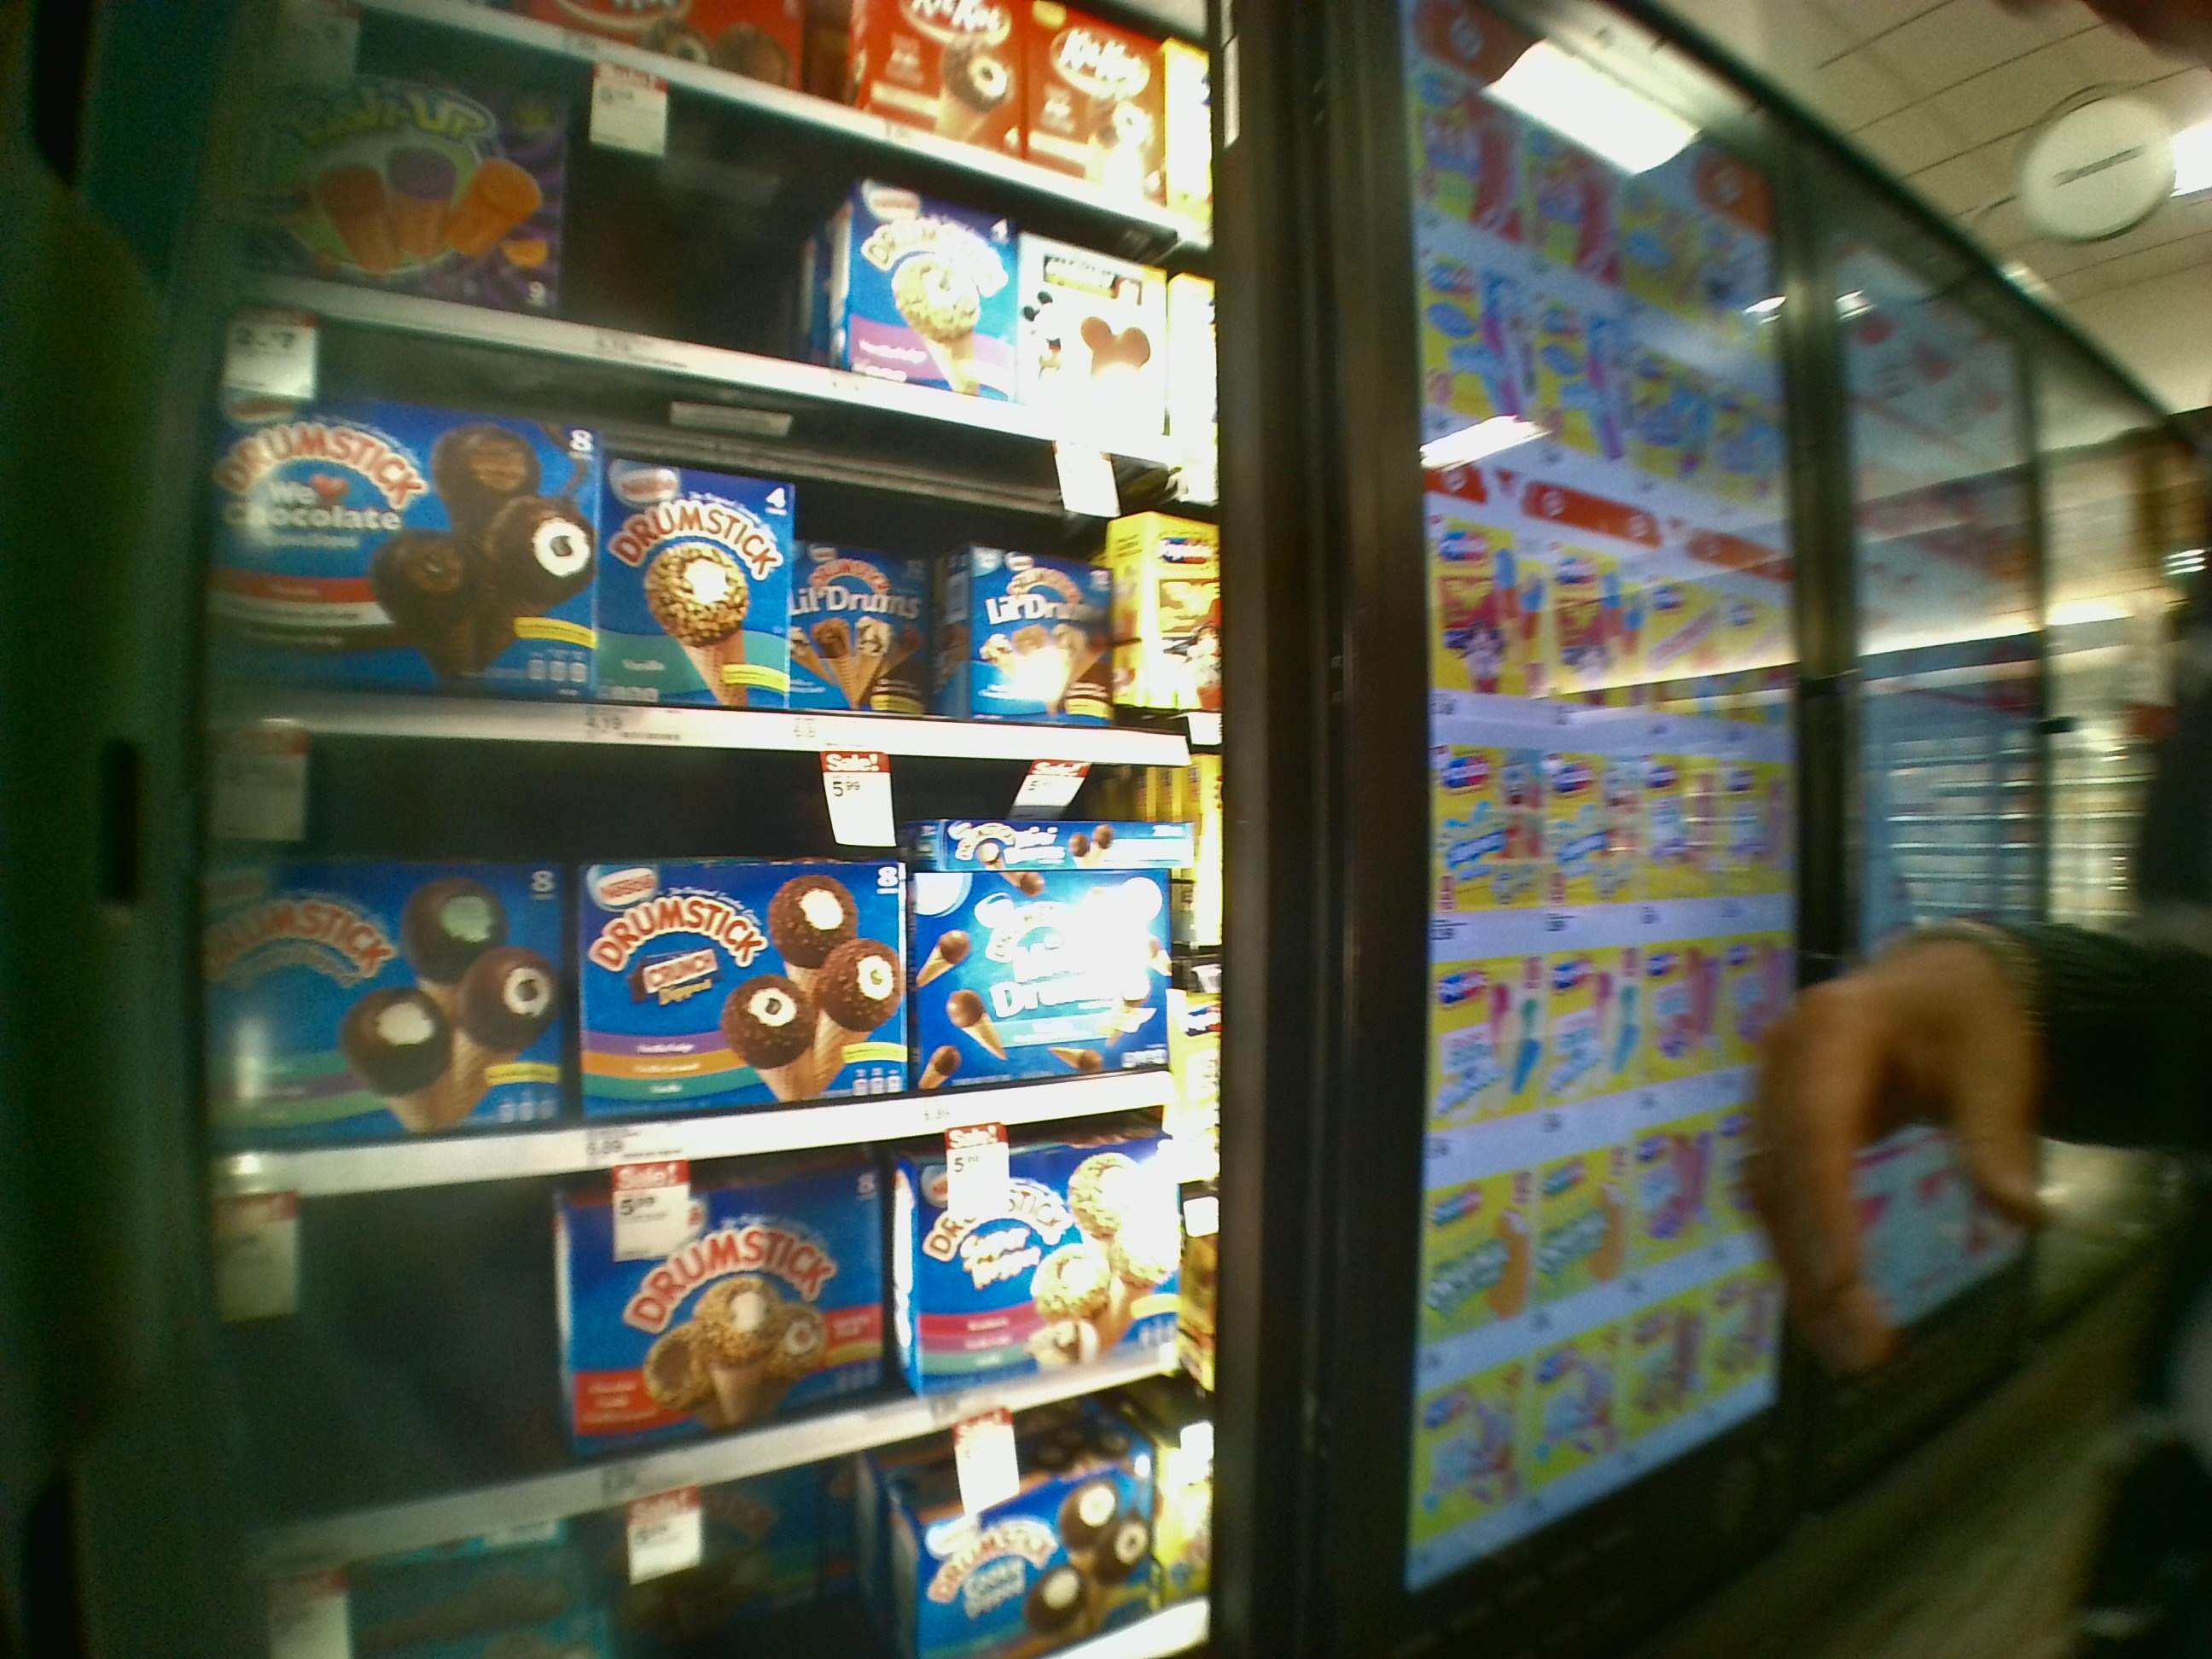shelf: (212, 727, 1233, 1178), (211, 319, 1230, 763)
